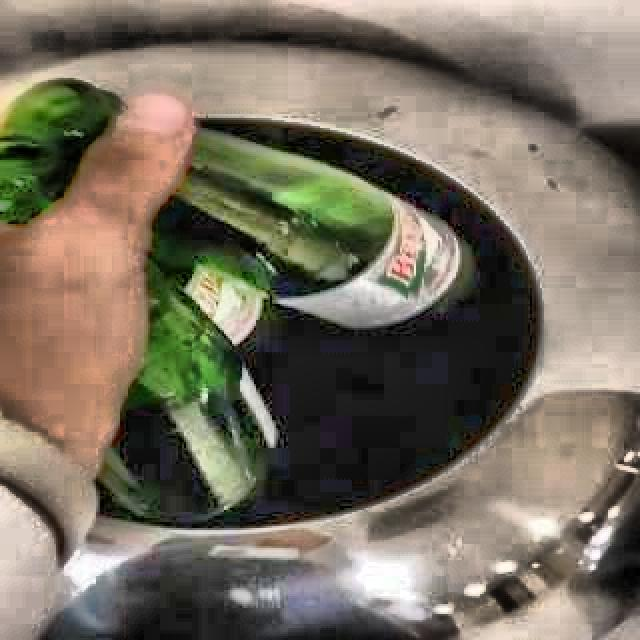glass: (99, 130, 464, 526), (0, 80, 117, 225)
